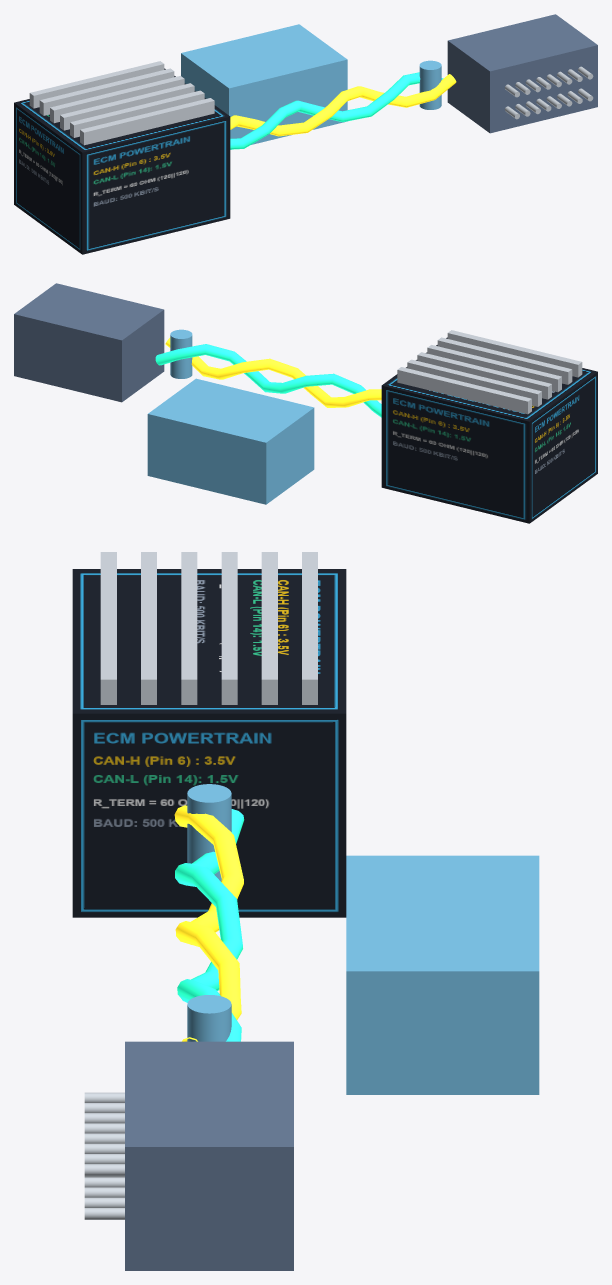
Rendered from autoel-can.glb.
The picture shows the model from 3 angles, top to bottom: view 1: azimuth 30°, elevation 25°; view 2: azimuth 150°, elevation 25°; view 3: azimuth 270°, elevation 25°; orthographic projection. The views are drawn at different scales.
Visible parts, largest first — view 1: ECMBox, OBDPlug, BCMBox, CANHighWire, CANLowWire, ECMFins5, ECMFins0, ECMFins1, ECMFins3, ECMFins4, ECMFins2, Term120R; view 2: ECMBox, BCMBox, OBDPlug, CANLowWire, ECMFins0, CANHighWire, ECMFins5, ECMFins4, ECMFins2, ECMFins1, ECMFins3, Term120R; view 3: ECMBox, BCMBox, OBDPlug, CANHighWire, CANLowWire, ECMFins1, ECMFins2, ECMFins3, ECMFins5, ECMFins0, ECMFins4, Term120L (+1 smaller).
Boxes of the visible parts, bbox=[...] form: ECMBox: bbox=[14, 68, 230, 254]; OBDPlug: bbox=[447, 14, 597, 133]; BCMBox: bbox=[181, 24, 347, 149]; CANHighWire: bbox=[230, 74, 456, 136]; CANLowWire: bbox=[230, 72, 443, 149]; ECMFins5: bbox=[80, 98, 214, 145]; ECMFins0: bbox=[29, 61, 164, 108]; ECMFins1: bbox=[39, 68, 174, 115]; ECMFins3: bbox=[60, 83, 194, 130]; ECMFins4: bbox=[70, 90, 204, 137]; ECMFins2: bbox=[50, 76, 184, 123]; Term120R: bbox=[419, 60, 441, 109]; ECMBox: bbox=[381, 337, 597, 523]; BCMBox: bbox=[147, 378, 314, 504]; OBDPlug: bbox=[14, 283, 164, 402]; CANLowWire: bbox=[155, 344, 381, 417]; ECMFins0: bbox=[397, 367, 531, 414]; CANHighWire: bbox=[165, 337, 381, 407]; ECMFins5: bbox=[447, 330, 582, 377]; ECMFins4: bbox=[437, 337, 572, 384]; ECMFins2: bbox=[417, 352, 551, 399]; ECMFins1: bbox=[407, 359, 541, 406]; ECMFins3: bbox=[427, 345, 561, 392]; Term120R: bbox=[170, 329, 192, 378]; ECMBox: bbox=[72, 569, 346, 917]; BCMBox: bbox=[346, 855, 539, 1094]; OBDPlug: bbox=[125, 1041, 293, 1270]; CANHighWire: bbox=[174, 805, 243, 1041]; CANLowWire: bbox=[175, 809, 244, 1041]; ECMFins1: bbox=[261, 552, 277, 704]; ECMFins2: bbox=[221, 552, 237, 704]; ECMFins3: bbox=[181, 552, 197, 704]; ECMFins5: bbox=[100, 552, 116, 704]; ECMFins0: bbox=[302, 552, 317, 704]; ECMFins4: bbox=[141, 552, 156, 704]; Term120L: bbox=[187, 784, 231, 881].
Size of the model in its own units: 3.04 by 0.63 by 1.16.
Materials: 6 (1 with a texture image).
